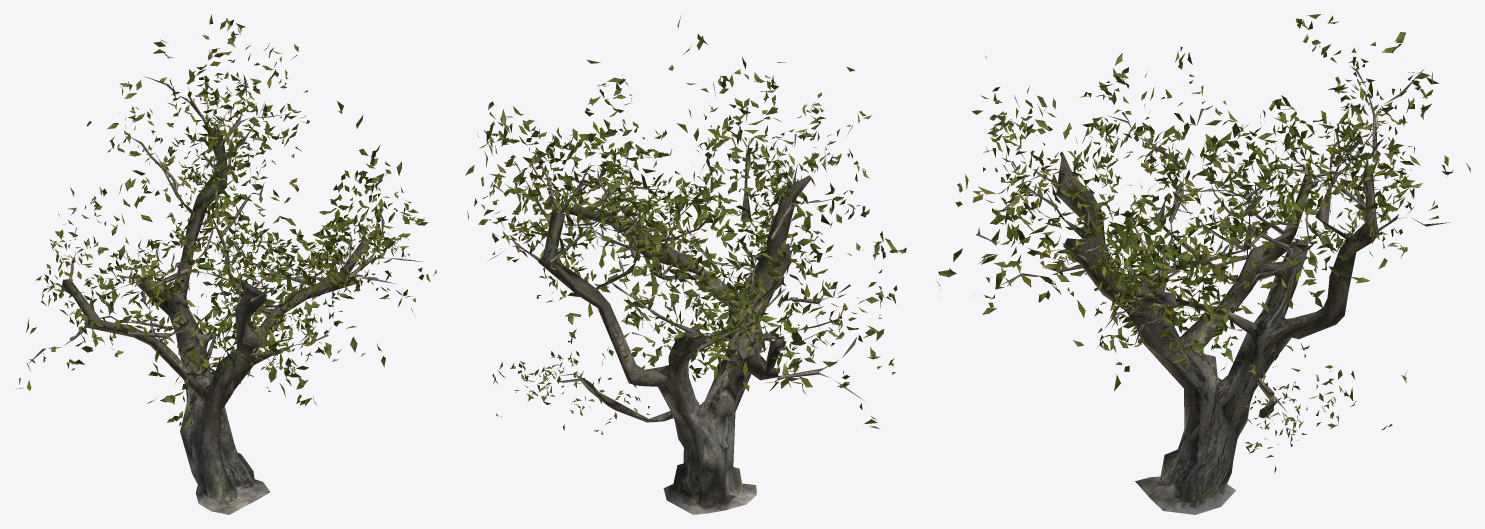
File: island_tree_01_far.glb
The picture shows the model from 3 angles, left to right: view 1: azimuth 30°, elevation 25°; view 2: azimuth 150°, elevation 25°; view 3: azimuth 270°, elevation 25°; orthographic projection. The views are drawn at different scales.
Visible parts, largest first — view 1: island_tree_01_LOD0; view 2: island_tree_01_LOD0; view 3: island_tree_01_LOD0.
Part boxes in pixels (bbox=[...]): island_tree_01_LOD0: bbox=[16, 14, 436, 514]; island_tree_01_LOD0: bbox=[465, 16, 906, 514]; island_tree_01_LOD0: bbox=[937, 14, 1470, 514].
Bounding box in the file's own units: 4.64 × 5 × 4.73.
3 materials, 3 textured.
